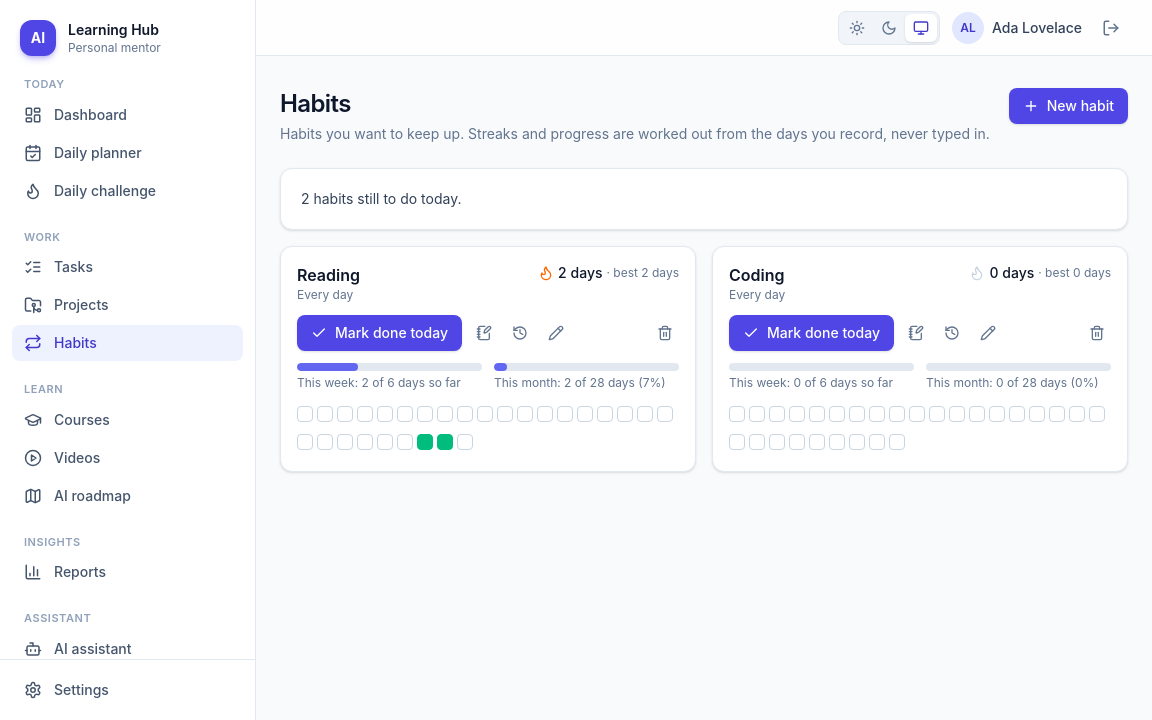
habits page › marking done today records the day and the streak, progress and 'due' count update immediately
The width and height of the screenshot is (1152, 720).
Check: the heading "Habits" is shown, box [280, 89, 351, 118]
Check: the element named "Reading streak" shows "2 days", box [558, 264, 602, 281]
What coordinates should you click on to do the following:
click the button with aria-label "Mark Reading done today"
I would click on:
 (379, 333)
Its box is [297, 315, 462, 351].
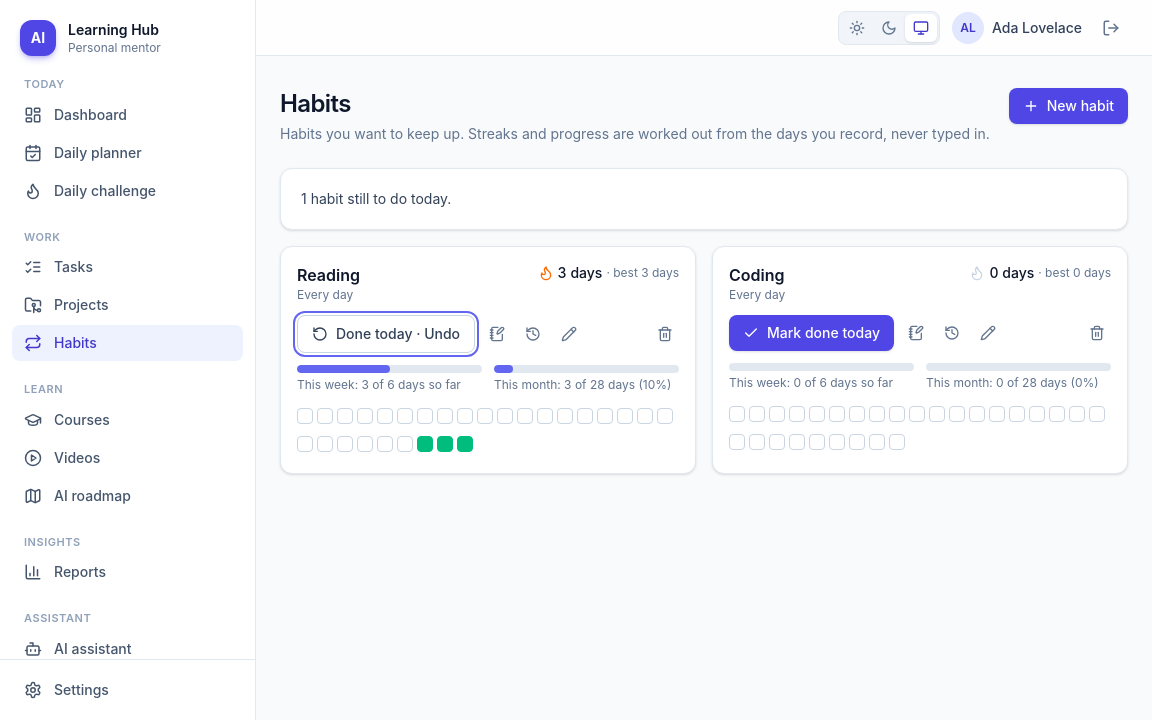
Check: the element named "Reading streak" reads "3 days · best 3 days", box [538, 263, 679, 283]
Check: the button with aria-label "Undo Reading for today" is shown, box [297, 315, 475, 353]
Check: the text "1 habit still to do today." is shown, box [301, 190, 451, 207]
